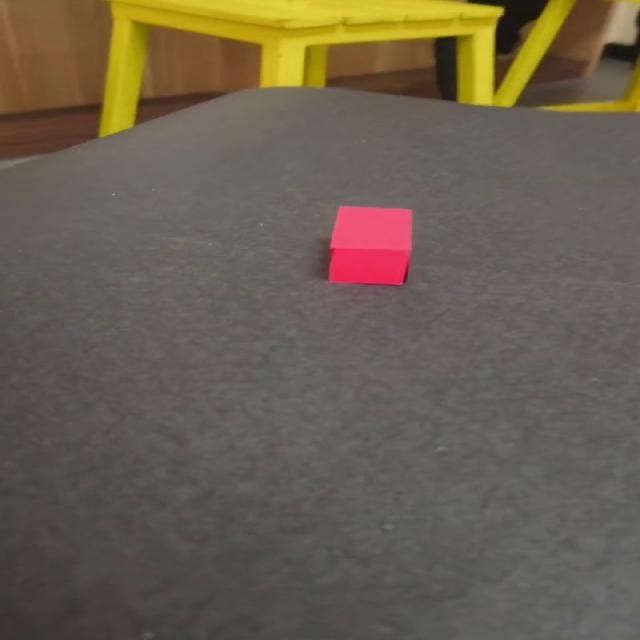red block: (327, 205, 413, 285)
